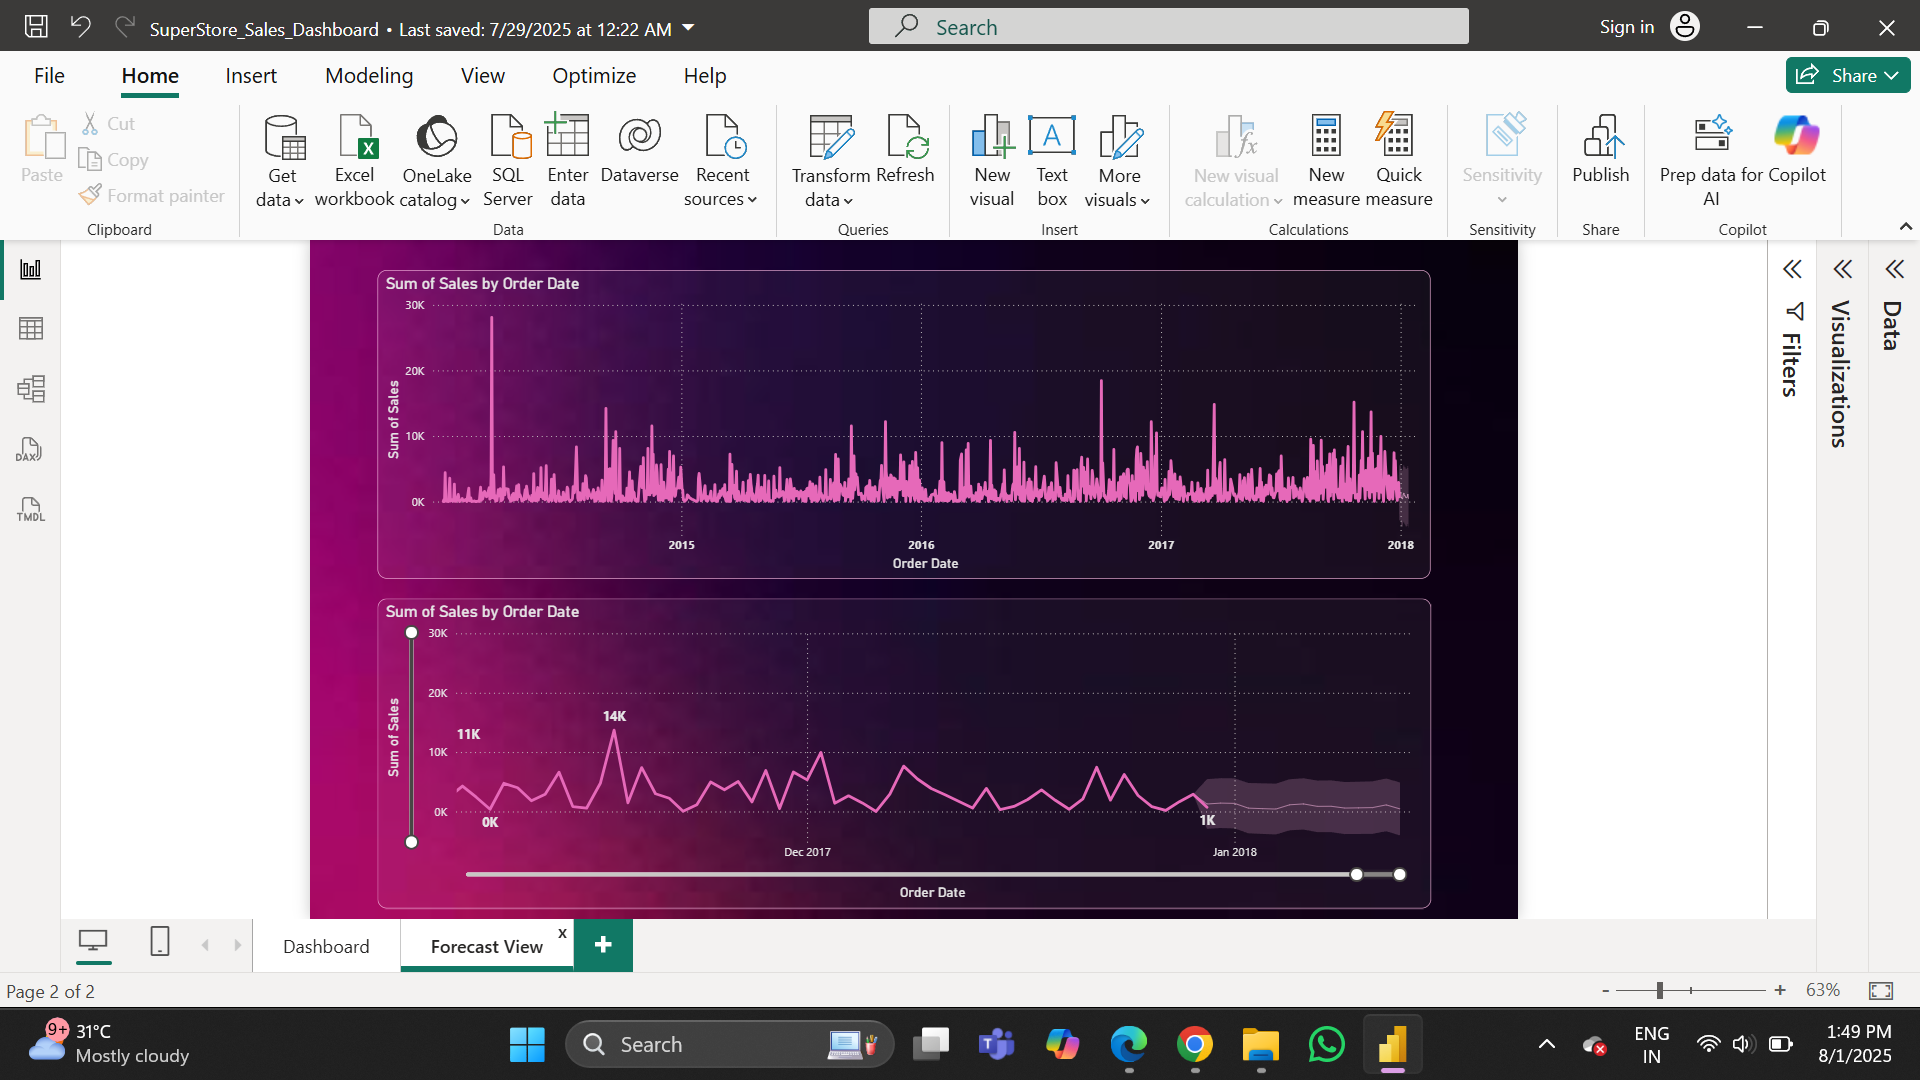

Layout of this report page (visuals, bound fields, positions):
{"tool":"powerbi","page":{"name":"Forecast View","canvas":[1280,720],"ordinal":1},"visuals":[{"type":"lineChart","fields":{"Y":["Sum(Sample - Superstore.Sales)"],"Category":["Sample - Superstore.Order Date"]},"box":[71.6,31.8,1116.6,327.7],"z":0},{"type":"lineChart","fields":{"Y":["Sum(Sample - Superstore.Sales)"],"Category":["Sample - Superstore.Order Date"]},"box":[71.2,380.5,1117.3,328.7],"z":1000}]}

Visuals, with their boxes on the page's 1280x720 design canvas (x1, y1, x2, y2). These are canvas units, not pixel positions in the 1920x1080 screenshot, which may show the page scaled, cropped or inside an application window:
lineChart - Sum(Sample - Superstore.Sales) x Sample - Superstore.Order Date: {"left": 72, "top": 32, "right": 1188, "bottom": 360}
lineChart - Sum(Sample - Superstore.Sales) x Sample - Superstore.Order Date: {"left": 71, "top": 380, "right": 1188, "bottom": 709}
